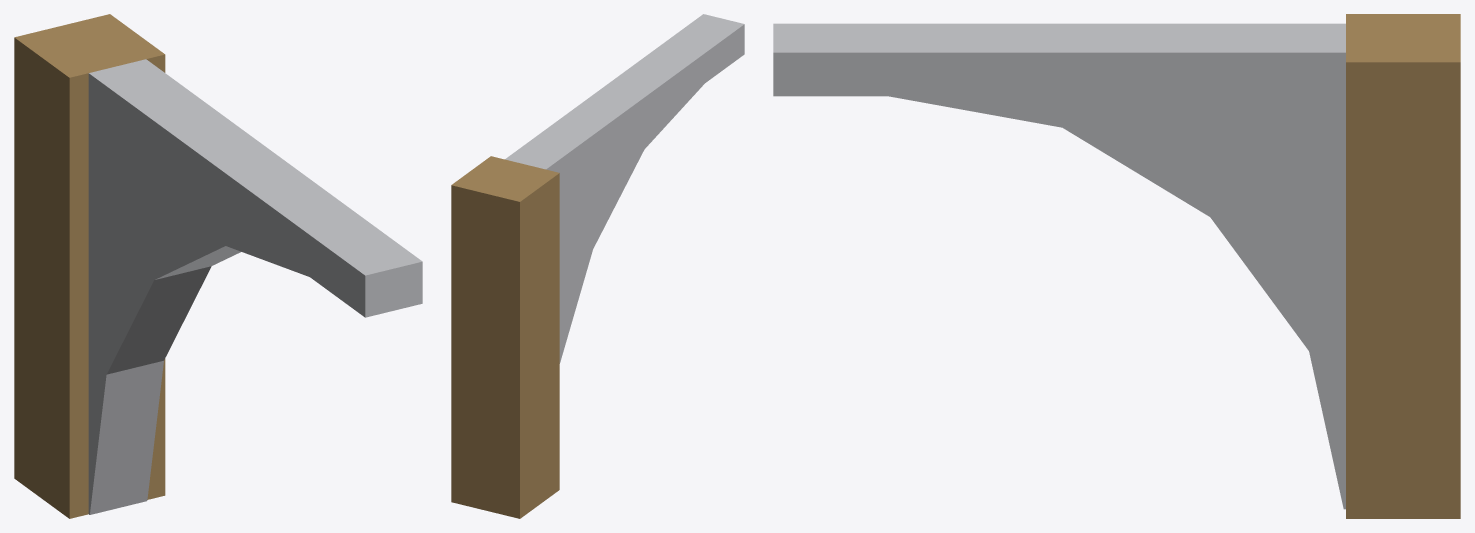
File: Wood_Arch_01.obj
The picture shows the model from 3 angles, left to right: view 1: azimuth 30°, elevation 25°; view 2: azimuth 150°, elevation 25°; view 3: azimuth 270°, elevation 25°; orthographic projection. The views are drawn at different scales.
Visible parts, largest first — view 1: Mesh1_Wood_Arch_Model; view 2: Mesh1_Wood_Arch_Model; view 3: Mesh1_Wood_Arch_Model.
Boxes of the visible parts, x1,y1,x2,y2 form: Mesh1_Wood_Arch_Model: (14, 14, 422, 518); Mesh1_Wood_Arch_Model: (451, 14, 744, 518); Mesh1_Wood_Arch_Model: (773, 14, 1460, 518).
Size of the model in its own units: 0.5 by 2.2 by 3.
